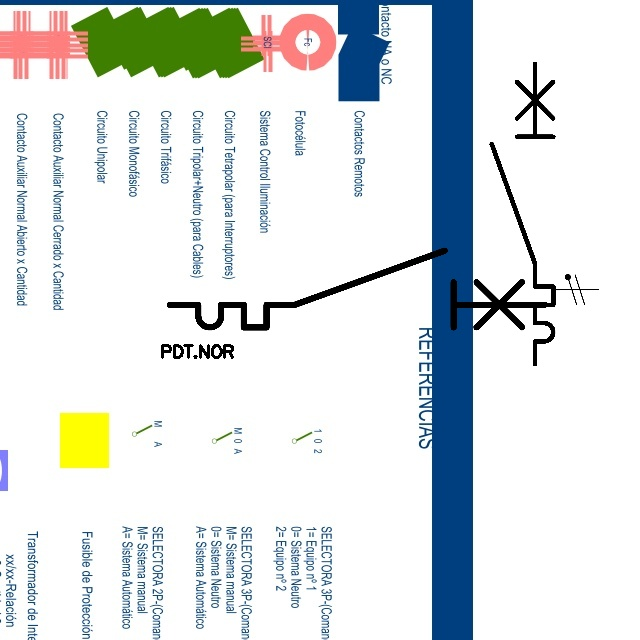interruptor_termomagnetico: (160, 241, 554, 337), (484, 56, 561, 372)
